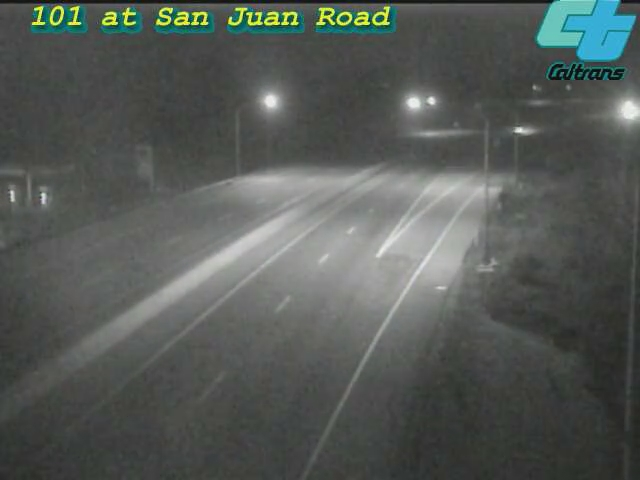vehicle: (495, 105, 545, 155), (601, 85, 640, 135)
